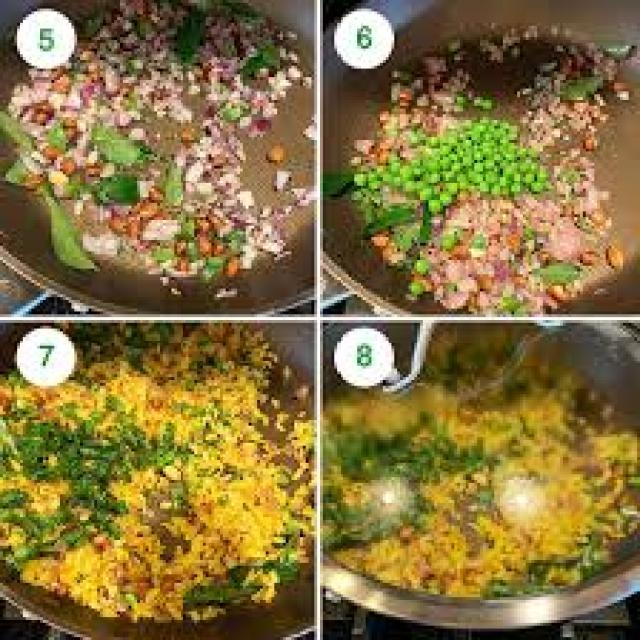POHA: (0, 326, 311, 620), (326, 346, 637, 591)
UPMA: (0, 0, 306, 291), (346, 20, 626, 306)
